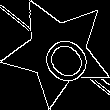O_NW: (24, 19, 91, 85)
